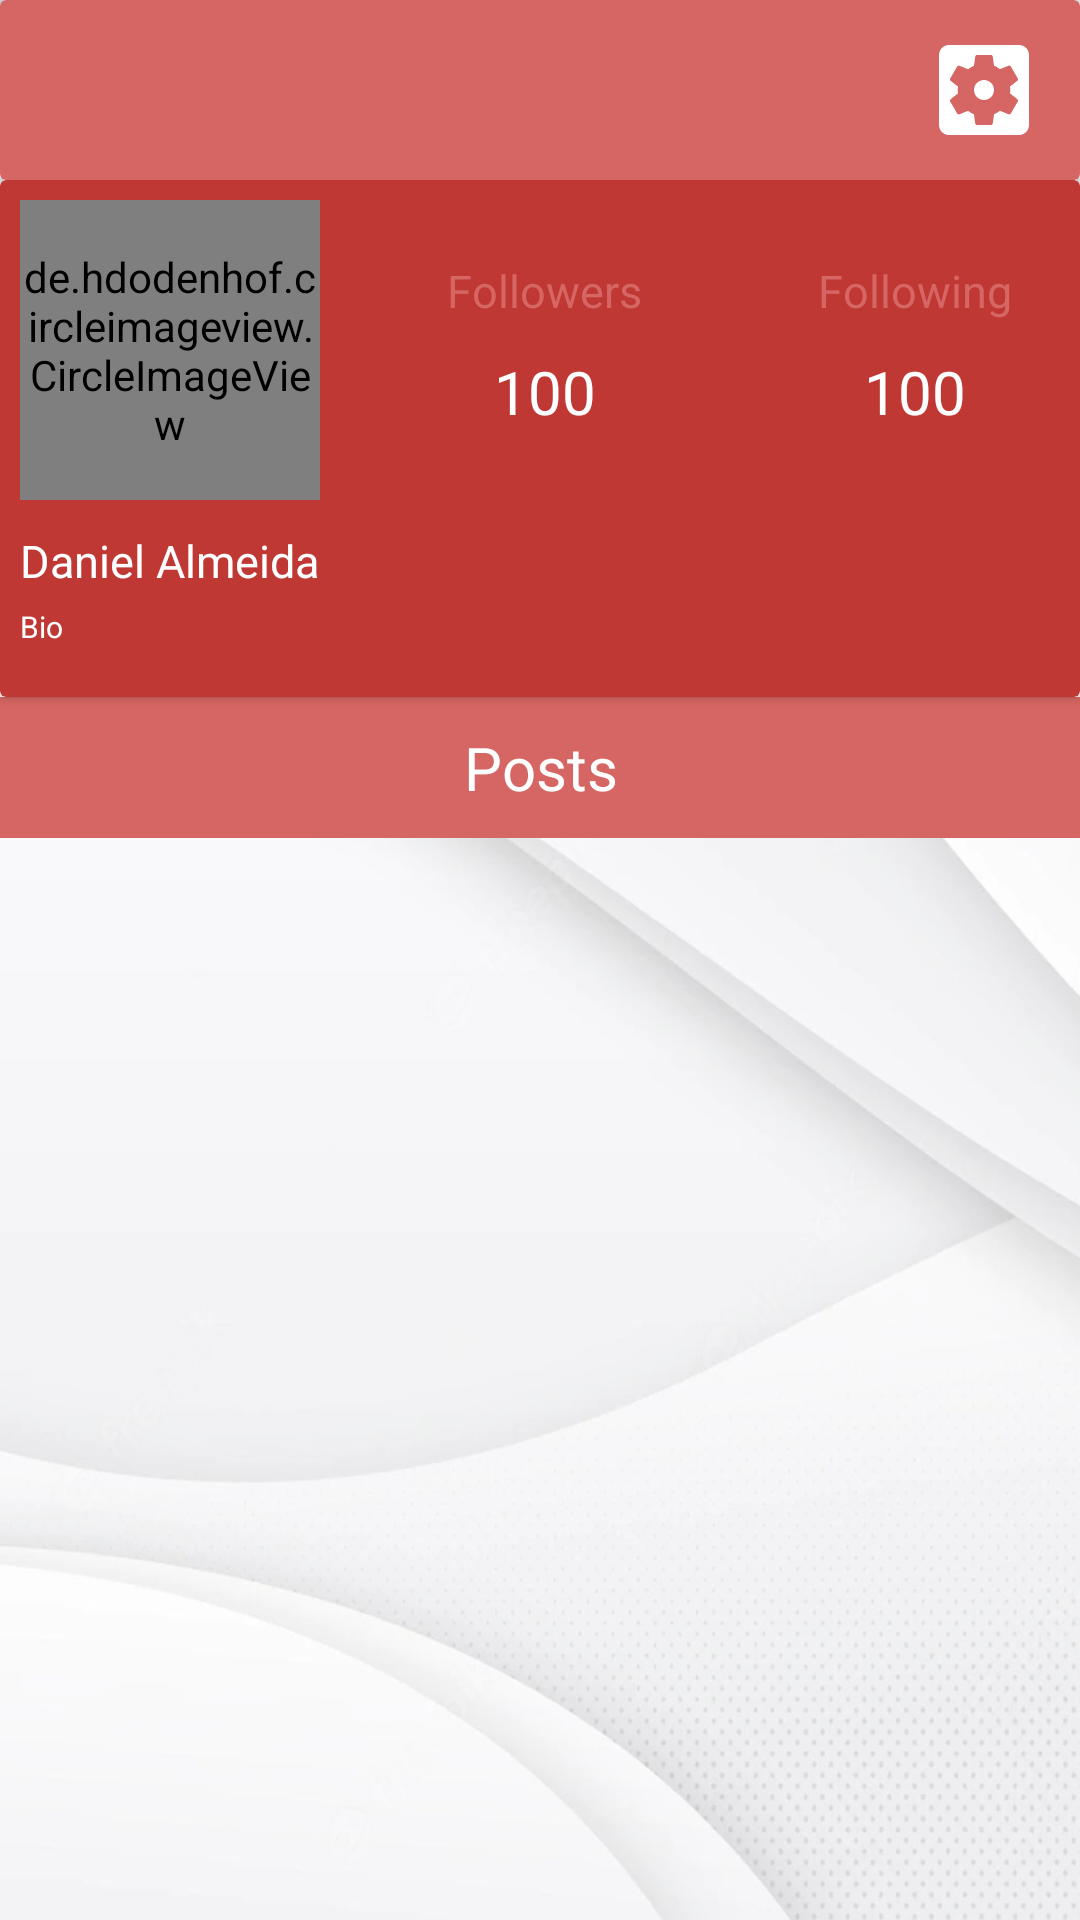

Icon bounding boxes for this 1080*1920 phone screenshot, format (x1, y1, x2, y2):
settings applications: (939, 0, 1080, 135)
